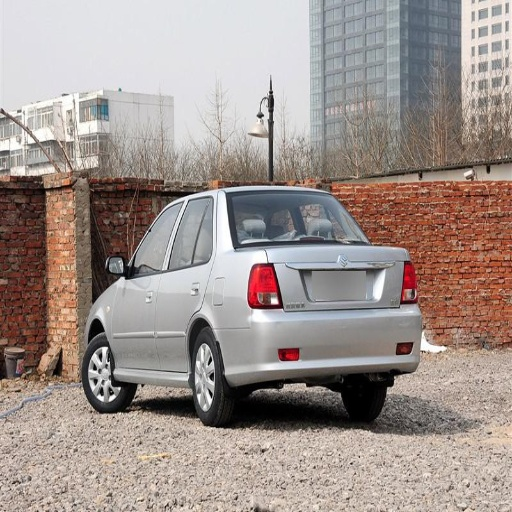back_bumper: (228, 304, 420, 382)
back_glass: (226, 191, 364, 247)
back_left_door: (156, 199, 214, 370)
tailgate: (265, 243, 405, 310)
